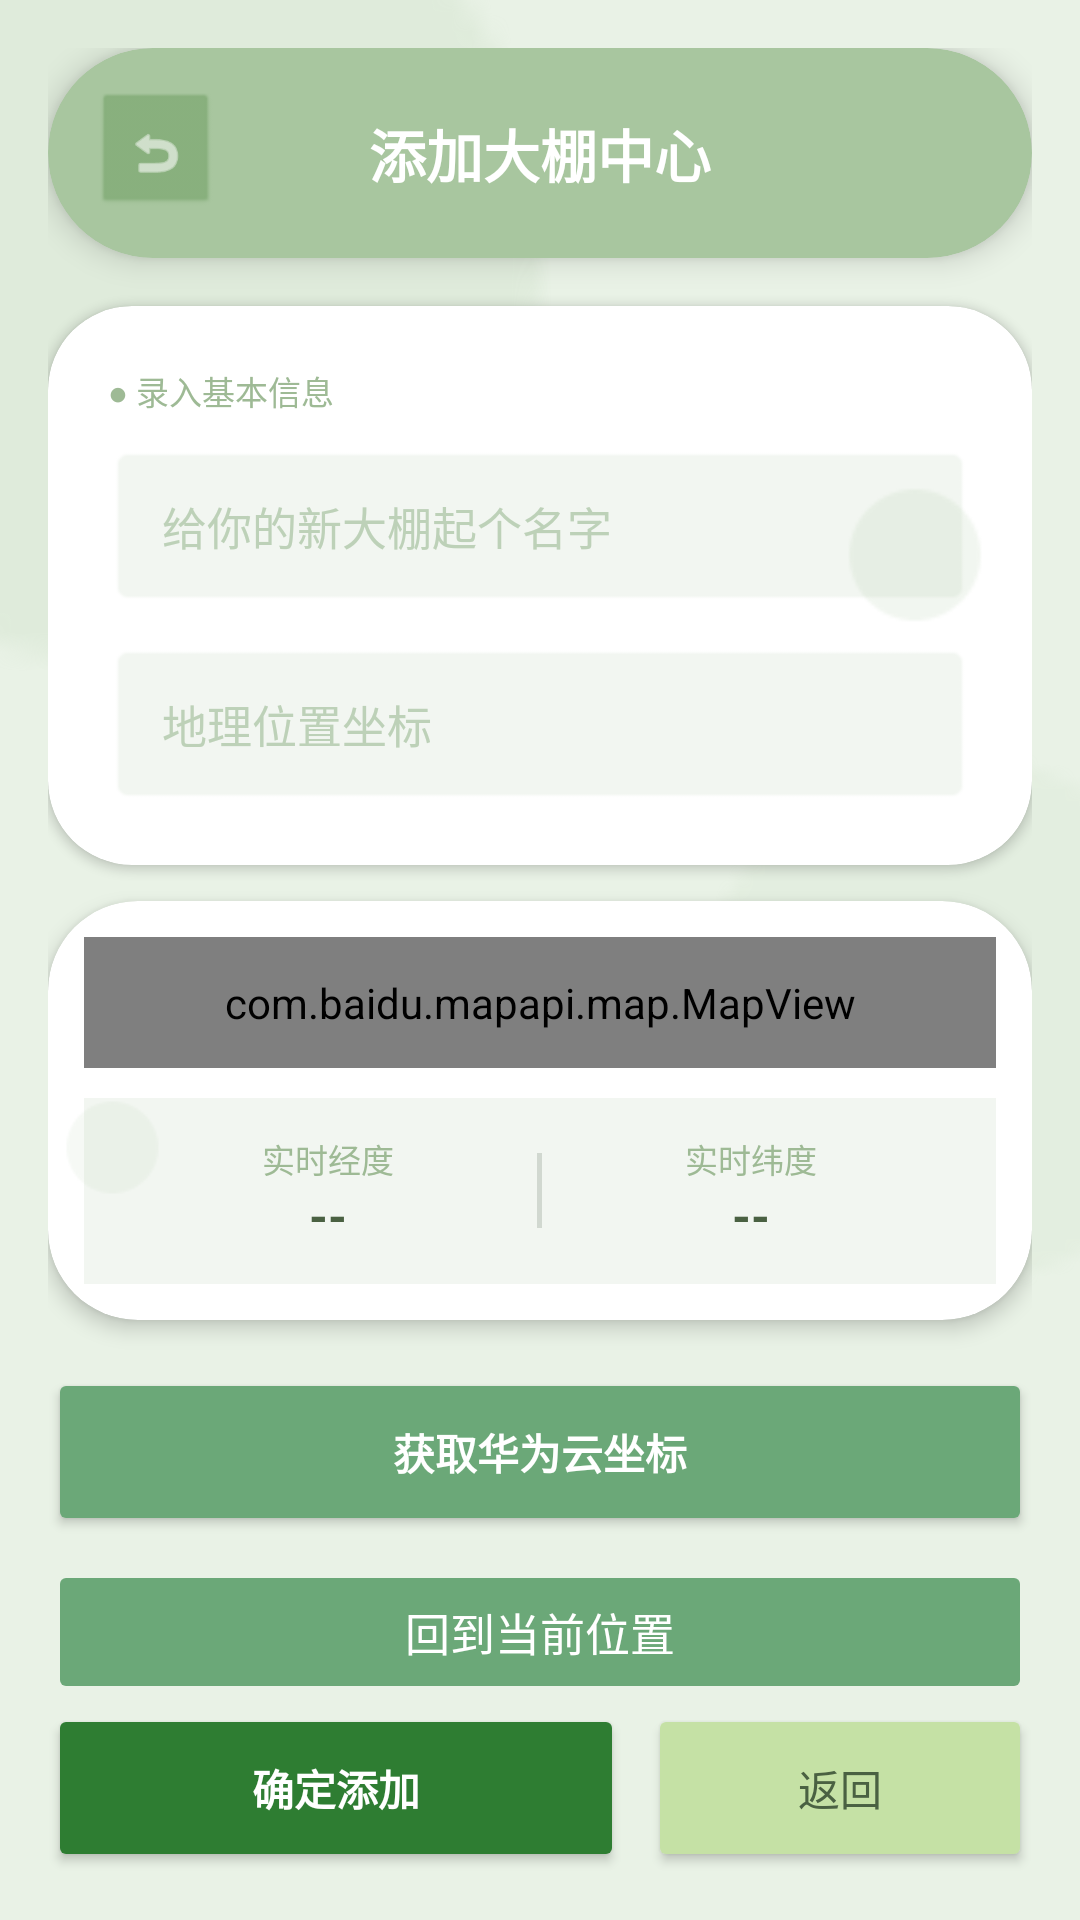

Named icons in this screenshot (1080×1920) and their bounding boxes, (x1, y1, x2, y2):
revert: (104, 96, 207, 200)
